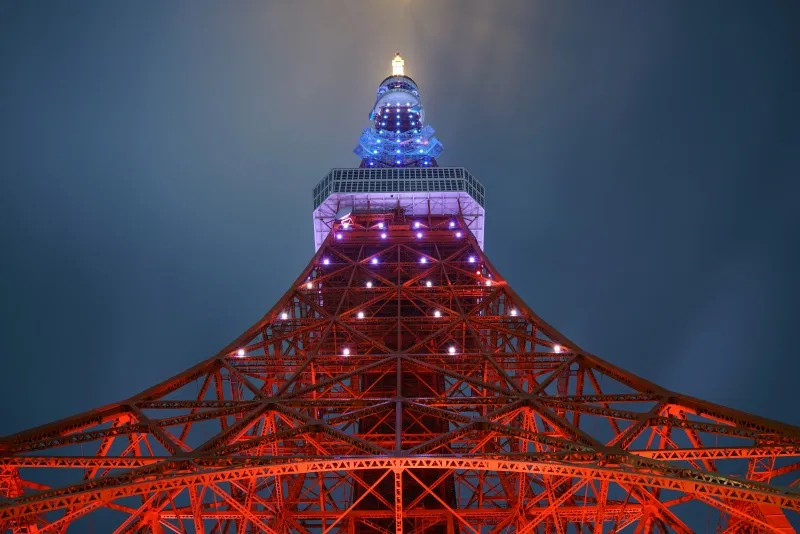Tokyo: (1, 50, 800, 534)
